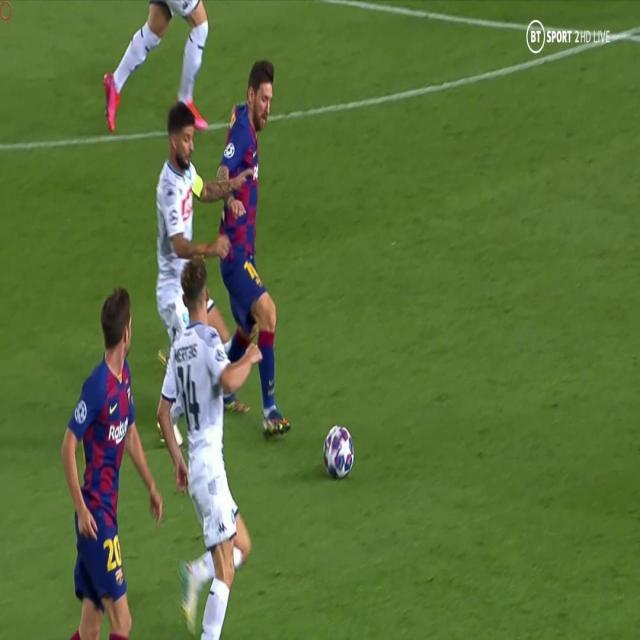ball: (319, 416, 359, 484)
player: (148, 243, 263, 638), (44, 280, 169, 640), (189, 50, 299, 457), (138, 99, 229, 437)
